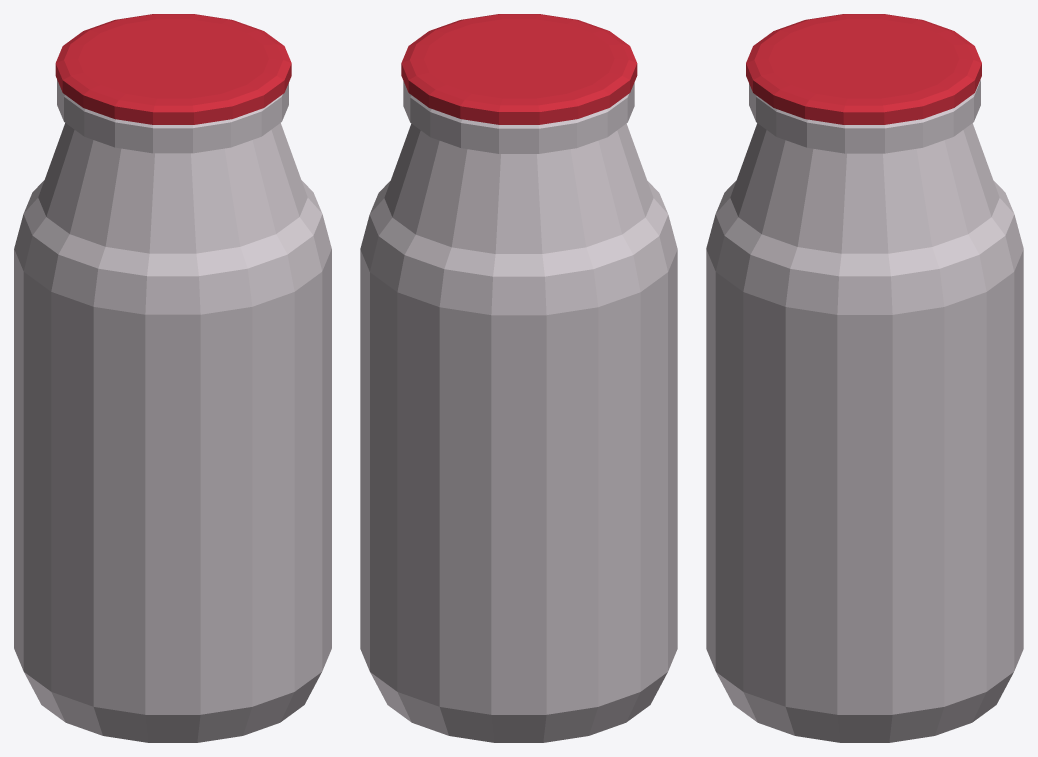
File: Leche.fbx
The picture shows the model from 3 angles, left to right: view 1: azimuth 30°, elevation 25°; view 2: azimuth 150°, elevation 25°; view 3: azimuth 270°, elevation 25°; orthographic projection.
Visible parts, largest first — view 1: Botella_leche.001, Botella_leche; view 2: Botella_leche.001, Botella_leche; view 3: Botella_leche.001, Botella_leche.
Boxes of the visible parts, <box> form: Botella_leche.001: <box>14,80,331,742</box>; Botella_leche: <box>55,14,291,124</box>; Botella_leche.001: <box>360,81,677,742</box>; Botella_leche: <box>401,14,637,124</box>; Botella_leche.001: <box>706,79,1023,742</box>; Botella_leche: <box>746,14,981,124</box>.
Bounding box in the file's own units: 79.82 × 176 × 81.05.
